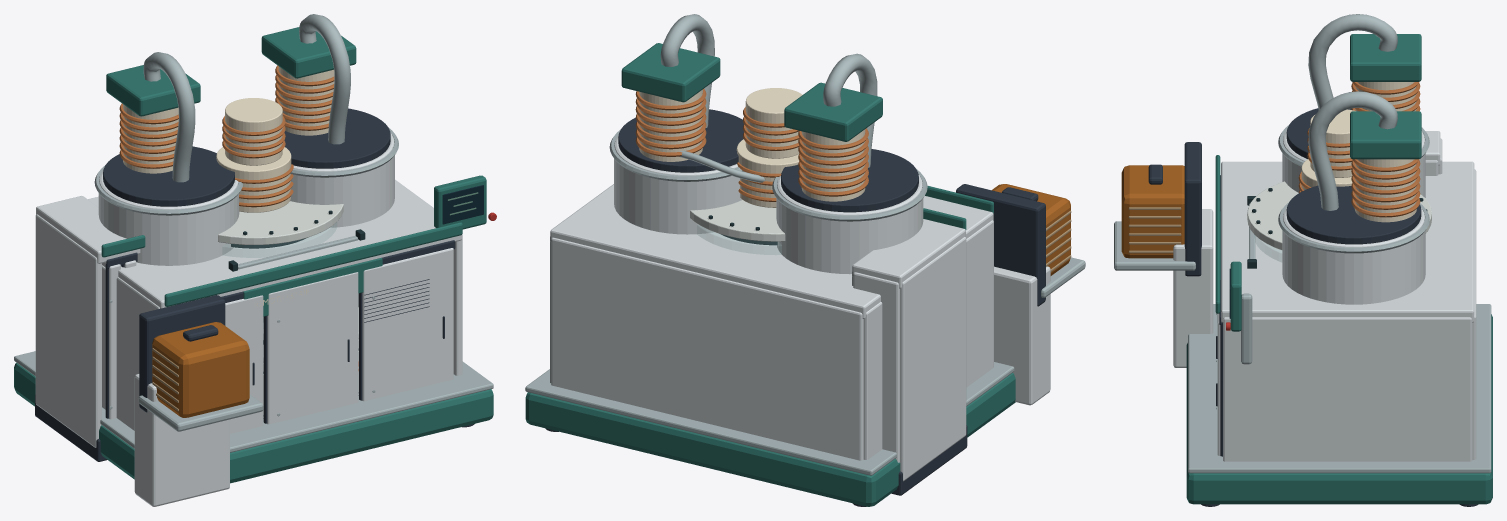
The model's file is equipment-strip.glb.
3 renders of one model, left to right at view 1: azimuth 30°, elevation 25°; view 2: azimuth 150°, elevation 25°; view 3: azimuth 270°, elevation 25°, orthographic. The views are drawn at different scales.
Visible parts, largest first — view 1: Side service skin, Removable service door.004, Removable service door.003, Segmented service plinth, Filtered ceiling.001, Independent load port base, Amber wafer transport pod, Downstream radical process pod, Raised deck edge, Downstream radical process pod top cap, Downstream radical process pod.001, Service identity rail.001 (+29 smaller); view 2: Rear utility enclosure.001, Segmented service plinth, Side service skin, Filtered ceiling.001, Side service skin.002, Downstream radical process pod, Independent load port base, Downstream radical process pod.001, Raised deck edge, Pod docking bulkhead, Downstream radical process pod top cap, Remote source top housing.001 (+19 smaller); view 3: Side service skin.003, Filtered ceiling.001, Segmented service plinth, Raised deck edge, Downstream radical process pod.001, Amber wafer transport pod, Downstream radical process pod top cap.001, Independent load port base, Radical delivery arch.001, Remote source top housing.001, Remote source top housing, Radical delivery arch (+17 smaller).
Boxes of the visible parts, box(x1,y1,x2,y2) form: Side service skin: box(35, 214, 101, 447); Removable service door.004: box(362, 248, 453, 401); Removable service door.003: box(267, 272, 358, 424); Segmented service plinth: box(14, 363, 493, 483); Filtered ceiling.001: box(88, 179, 462, 308); Independent load port base: box(134, 374, 229, 506); Amber wafer transport pod: box(152, 322, 249, 417); Downstream radical process pod: box(98, 170, 239, 265); Raised deck edge: box(14, 351, 493, 452); Downstream radical process pod top cap: box(103, 146, 234, 206); Downstream radical process pod.001: box(290, 132, 394, 227); Service identity rail.001: box(164, 222, 462, 306); Rear utility enclosure.001: box(551, 237, 863, 460); Segmented service plinth: box(525, 373, 1015, 506); Side service skin: box(900, 237, 966, 481); Filtered ceiling.001: box(550, 184, 993, 318); Side service skin.002: box(863, 220, 993, 459); Downstream radical process pod: box(776, 175, 923, 274); Independent load port base: box(994, 266, 1050, 405); Downstream radical process pod.001: box(614, 135, 741, 234); Raised deck edge: box(525, 362, 1014, 475); Pod docking bulkhead: box(956, 184, 1045, 306); Downstream radical process pod top cap: box(781, 149, 918, 212); Remote source top housing.001: box(621, 43, 720, 102); Side service skin.003: box(1223, 317, 1472, 461); Filtered ceiling.001: box(1221, 161, 1474, 322); Segmented service plinth: box(1186, 314, 1492, 504); Raised deck edge: box(1188, 304, 1491, 473); Downstream radical process pod.001: box(1282, 207, 1425, 304); Amber wafer transport pod: box(1121, 165, 1184, 258); Downstream radical process pod top cap.001: box(1286, 185, 1421, 244); Independent load port base: box(1173, 209, 1213, 367); Radical delivery arch.001: box(1308, 91, 1397, 210); Remote source top housing.001: box(1350, 111, 1421, 159); Remote source top housing: box(1350, 34, 1421, 81); Radical delivery arch: box(1308, 14, 1397, 110).
Bounding box in the file's own units: 5.53 × 5.25 × 4.76.
